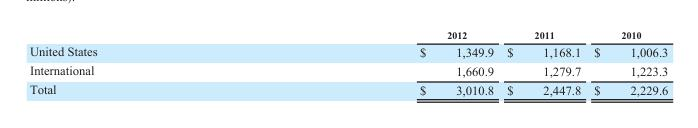table: (28, 28, 667, 96)
table column: (257, 28, 499, 96), (28, 28, 257, 96), (499, 28, 586, 96), (586, 28, 667, 96)
table column header: (28, 28, 667, 41)
table row: (28, 41, 667, 60), (28, 60, 667, 79), (28, 79, 667, 96), (28, 28, 667, 41)
